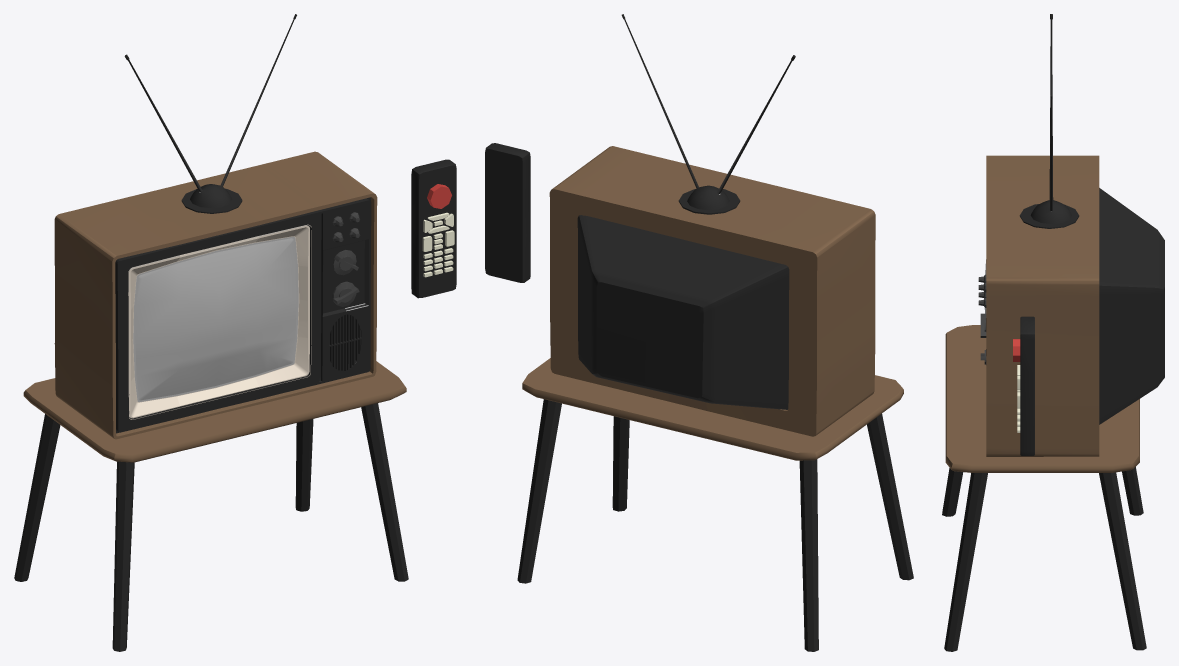
Rendered from d_tele_patas.glb.
3 renders of one model, left to right at view 1: azimuth 30°, elevation 25°; view 2: azimuth 150°, elevation 25°; view 3: azimuth 270°, elevation 25°, orthographic. The views are drawn at different scales.
Parts seen in each view (by area): view 1: Object_2; view 2: Object_2; view 3: Object_2.
Boxes of the visible parts, left/top/right/bottom form: Object_2: left=14, top=14, right=456, bottom=651; Object_2: left=485, top=14, right=913, bottom=651; Object_2: left=942, top=14, right=1164, bottom=651.
Bounding box in the file's own units: 0.7776 × 1.05 × 0.4013.
